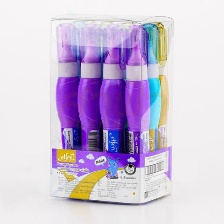correction_fluid: (95, 21, 127, 200), (73, 21, 103, 198), (52, 20, 81, 193), (121, 21, 148, 199), (141, 23, 162, 194), (152, 19, 169, 193)
plastic_box: (44, 10, 175, 207)
